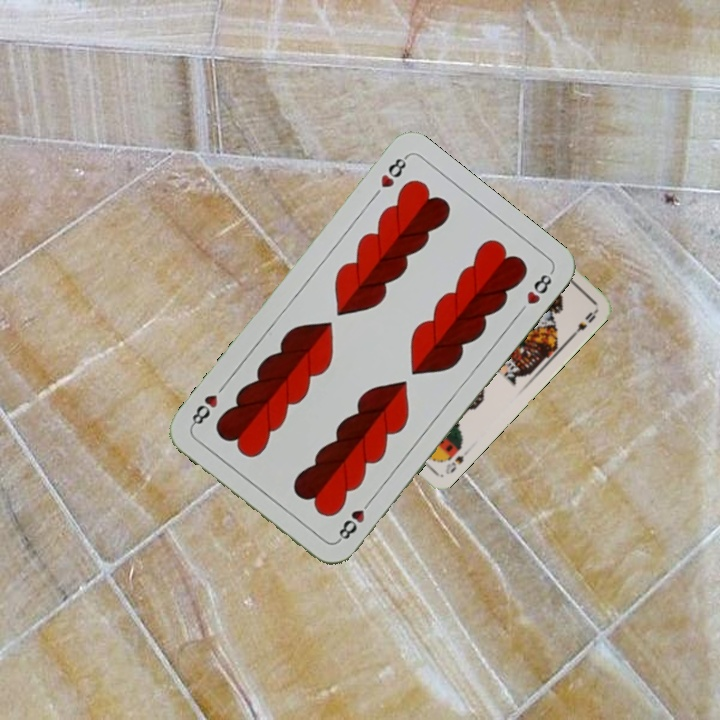H8: (333, 495, 375, 545), (368, 152, 410, 202)
SO: (441, 451, 467, 477)
